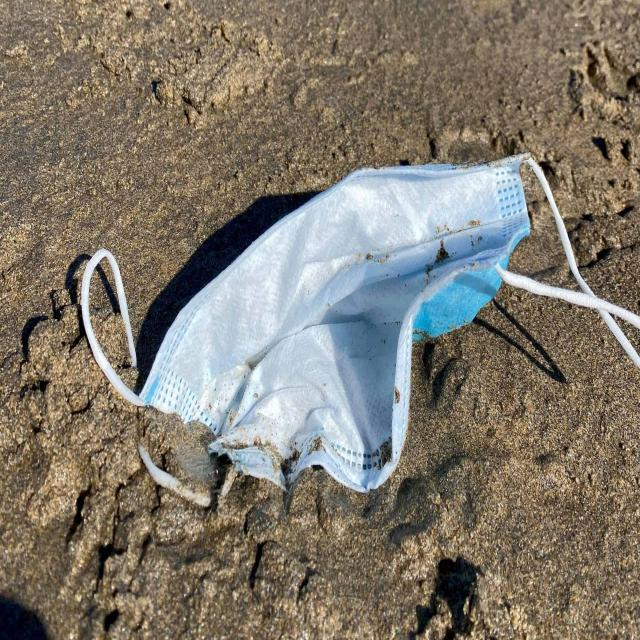face mask: (79, 143, 640, 501)
